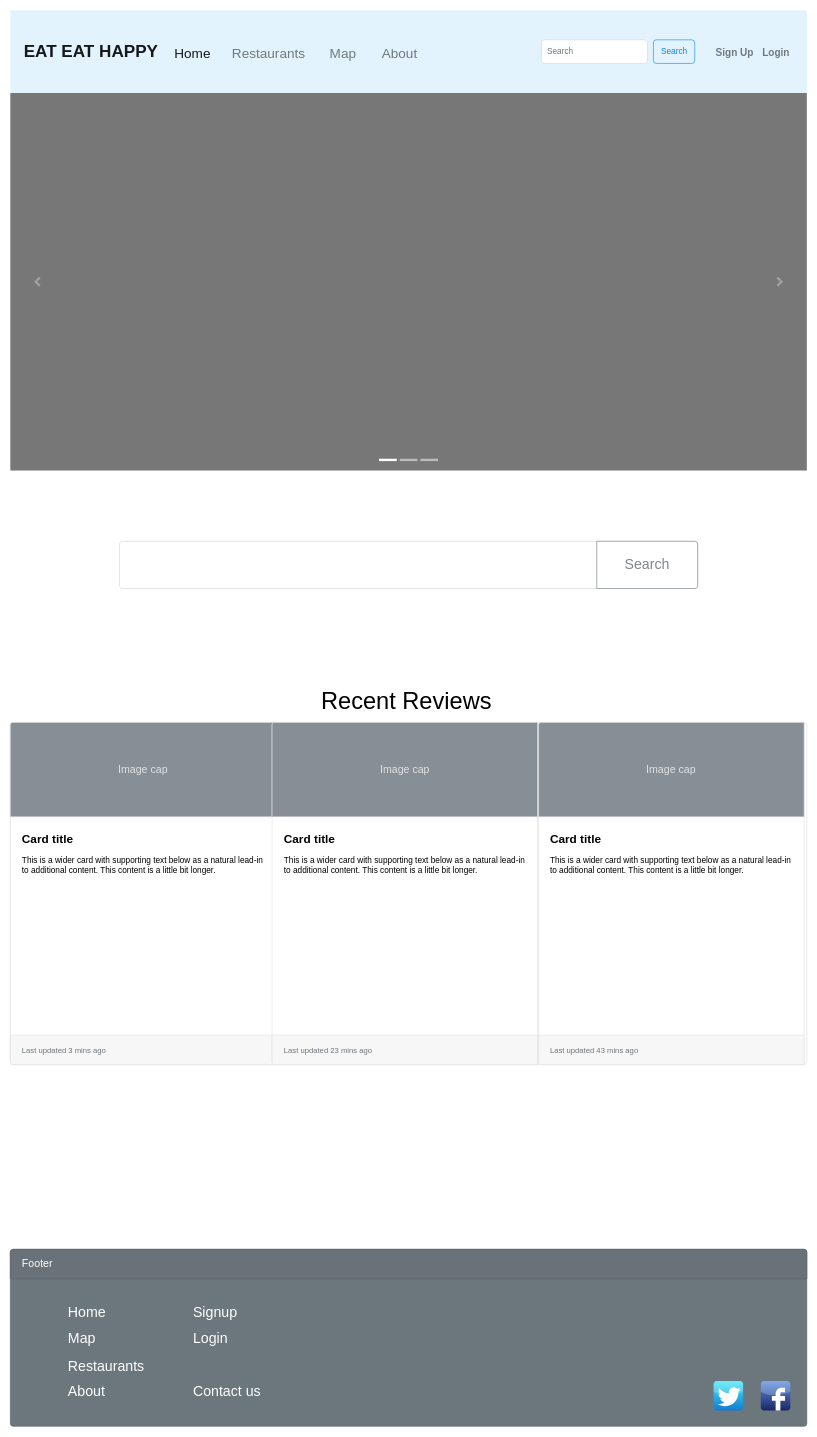
The diagram is 817 pixels wide and 1437 high, and some of its shapes have lost their labels. The centre of each missing label's shape, as x and y in pixels:
Featured: point (408, 281)
Search for Restaurants near....: point (408, 565)
